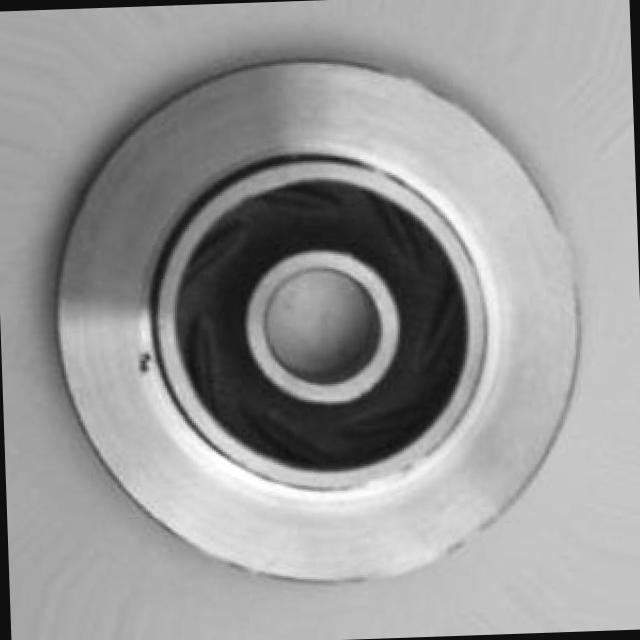Defect: (133, 344, 158, 376)
